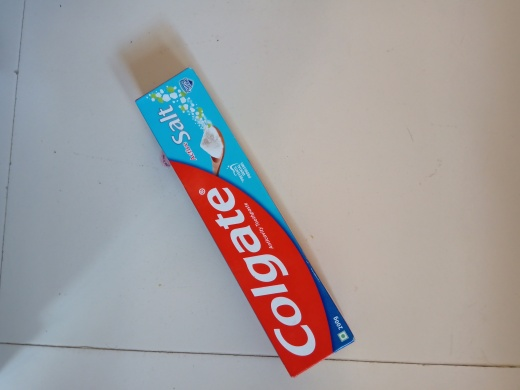colgate: (135, 65, 366, 379)
